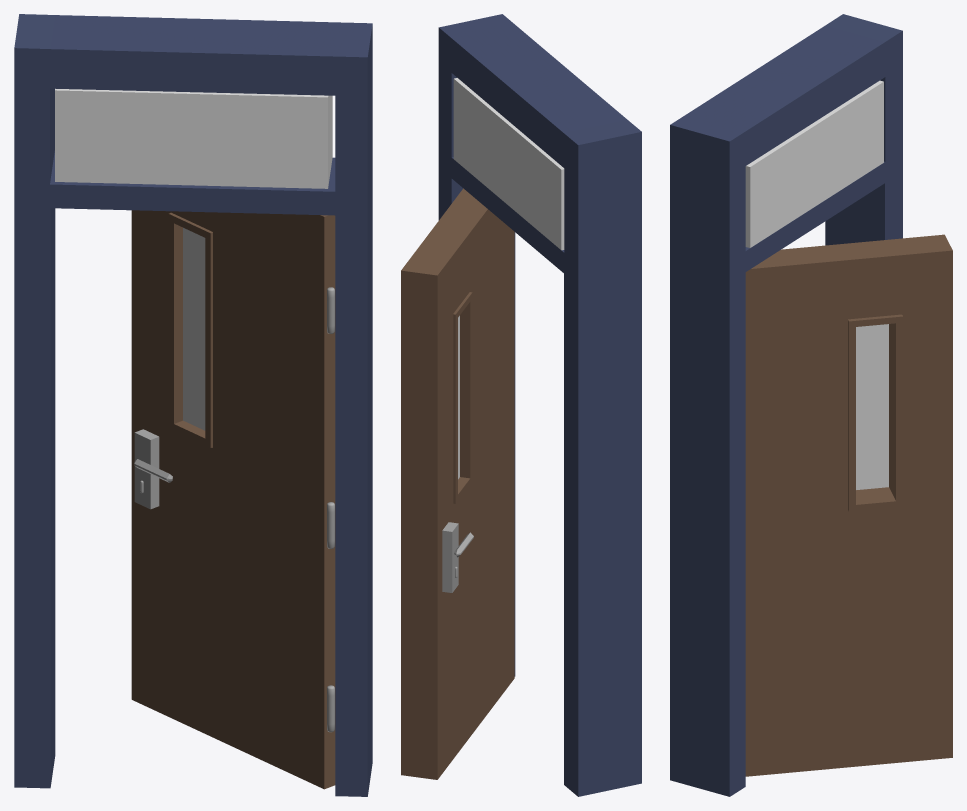
File: PintuMiring1.fbx
The picture shows the model from 3 angles, left to right: view 1: azimuth 30°, elevation 25°; view 2: azimuth 150°, elevation 25°; view 3: azimuth 270°, elevation 25°; orthographic projection. The views are drawn at different scales.
Parts seen in each view (by area): view 1: Pintu terbuka 2.008; view 2: Pintu terbuka 2.008; view 3: Pintu terbuka 2.008.
Part boxes in pixels (x1=…): Pintu terbuka 2.008: x1=14, y1=14, x2=372, y2=796; Pintu terbuka 2.008: x1=401, y1=14, x2=641, y2=796; Pintu terbuka 2.008: x1=670, y1=14, x2=952, y2=796.
Bounding box in the file's own units: 95.39 × 229 × 89.55.
